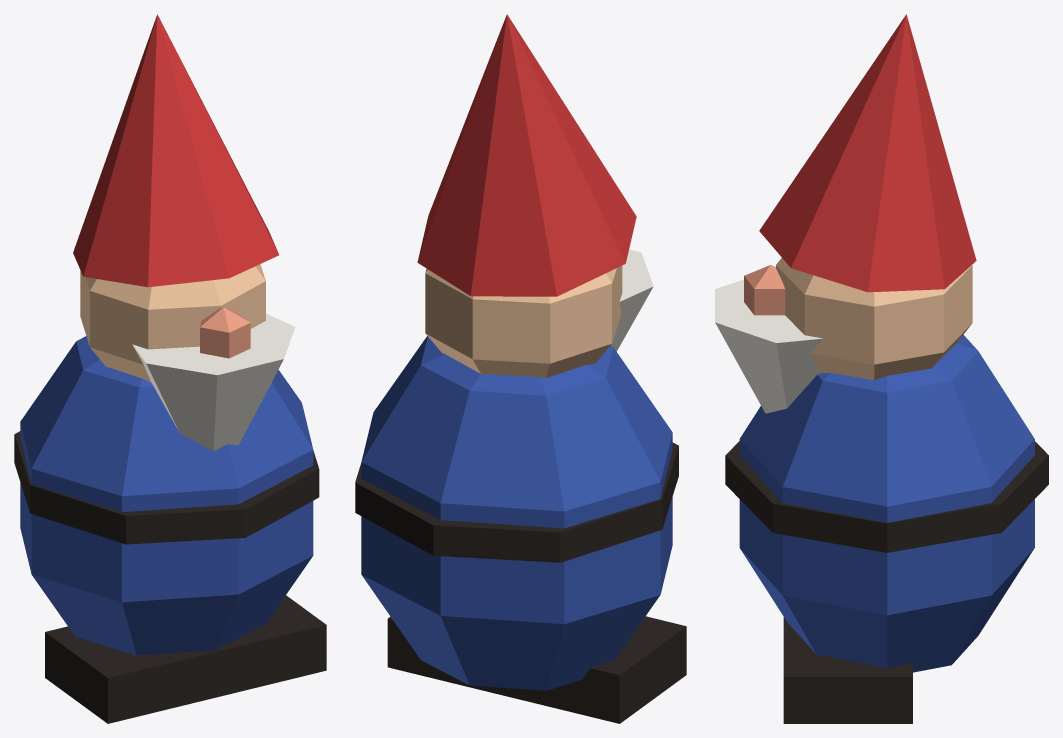
The model's file is garden_gnome_0.glb.
3 views of the same model, side by side, from view 1: azimuth 30°, elevation 25°; view 2: azimuth 150°, elevation 25°; view 3: azimuth 270°, elevation 25° (orthographic). The views are drawn at different scales.
Parts seen in each view (by area): view 1: body_gnome_coat, hat, boots_gnome_boots, head_gnome_skin, beard_gnome_beard, belt_gnome_belt, nose_gnome_nose; view 2: body_gnome_coat, hat, head_gnome_skin, belt_gnome_belt, boots_gnome_boots, beard_gnome_beard; view 3: body_gnome_coat, hat, head_gnome_skin, belt_gnome_belt, boots_gnome_boots, beard_gnome_beard, nose_gnome_nose.
Boxes of the visible parts, <box> form: body_gnome_coat: <box>20,336,313,655</box>; hat: <box>73,14,278,287</box>; boots_gnome_boots: <box>45,595,326,723</box>; head_gnome_skin: <box>80,264,265,382</box>; beard_gnome_beard: <box>132,313,295,451</box>; belt_gnome_belt: <box>14,431,319,544</box>; nose_gnome_nose: <box>200,307,250,358</box>; body_gnome_coat: <box>361,336,672,690</box>; hat: <box>417,14,636,296</box>; head_gnome_skin: <box>425,265,622,378</box>; belt_gnome_belt: <box>355,442,678,562</box>; boots_gnome_boots: <box>387,616,686,723</box>; beard_gnome_beard: <box>611,249,653,351</box>; body_gnome_coat: <box>739,335,1034,672</box>; hat: <box>759,14,976,292</box>; head_gnome_skin: <box>776,258,972,379</box>; belt_gnome_belt: <box>725,441,1048,552</box>; boots_gnome_boots: <box>783,617,912,723</box>; beard_gnome_beard: <box>715,279,823,413</box>; nose_gnome_nose: <box>744,265,785,315</box>.
Size of the model in its own units: 0.25 by 0.5589 by 0.2581.
